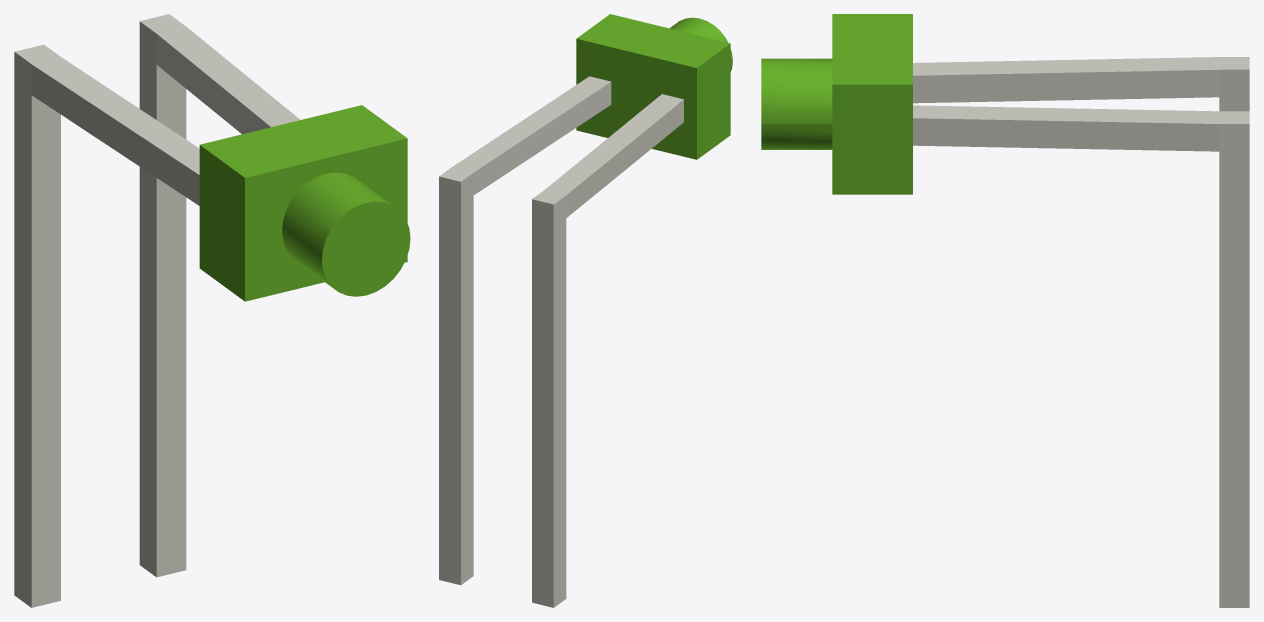
The model's file is kc-led_d1.8mm_w1.8mm_h2.4mm_horizontal_o6.35mm_z8.2mm.glb.
3 renders of one model, left to right at view 1: azimuth 30°, elevation 25°; view 2: azimuth 150°, elevation 25°; view 3: azimuth 270°, elevation 25°, orthographic. The views are drawn at different scales.
Parts seen in each view (by area): view 1: 0.6666666666666666_0.6666666666666666_0.5833333333333334_0.8, 0.16666666666666666_0.4166666666666667_0_0; view 2: 0.6666666666666666_0.6666666666666666_0.5833333333333334_0.8, 0.16666666666666666_0.4166666666666667_0_0; view 3: 0.6666666666666666_0.6666666666666666_0.5833333333333334_0.8, 0.16666666666666666_0.4166666666666667_0_0.
Part boxes in pixels (x1,y1,x2,y2): 0.6666666666666666_0.6666666666666666_0.5833333333333334_0.8: (14,14,300,607); 0.16666666666666666_0.4166666666666667_0_0: (199,105,410,301); 0.6666666666666666_0.6666666666666666_0.5833333333333334_0.8: (439,76,683,607); 0.16666666666666666_0.4166666666666667_0_0: (576,14,732,159); 0.6666666666666666_0.6666666666666666_0.5833333333333334_0.8: (913,57,1249,607); 0.16666666666666666_0.4166666666666667_0_0: (761,14,912,194).
Size of the model in its own units: 0.33 by 1.14 by 0.965.
